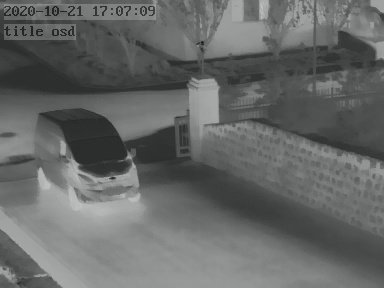vehicle: (36, 110, 142, 207)
